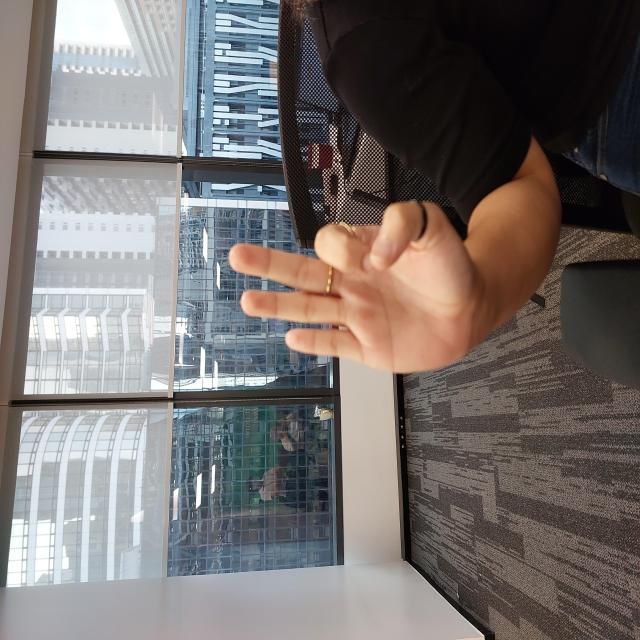F: (264, 226, 446, 482)
